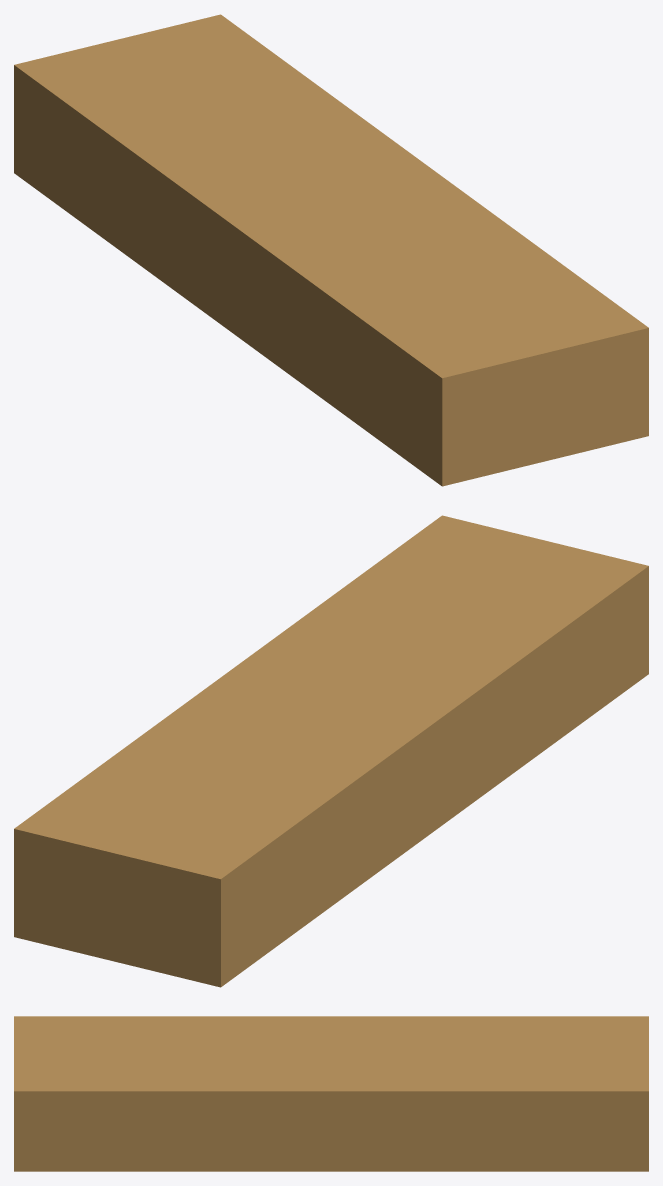
The picture shows the model from 3 angles, top to bottom: view 1: azimuth 30°, elevation 25°; view 2: azimuth 150°, elevation 25°; view 3: azimuth 270°, elevation 25°; orthographic projection. The views are drawn at different scales.
Parts seen in each view (by area): view 1: RUN-021-S00-NOG-02; view 2: RUN-021-S00-NOG-02; view 3: RUN-021-S00-NOG-02.
Boxes of the visible parts, left/top/right/bottom form: RUN-021-S00-NOG-02: left=14, top=14, right=648, bottom=486; RUN-021-S00-NOG-02: left=14, top=515, right=648, bottom=987; RUN-021-S00-NOG-02: left=14, top=1016, right=648, bottom=1171.
Bounding box in the file's own units: 0.09 × 0.045 × 0.3226.
